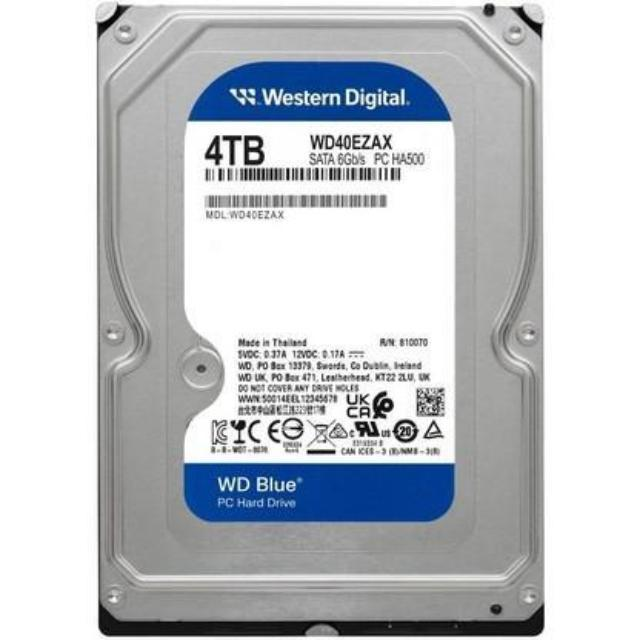DISK: (91, 0, 548, 637)
